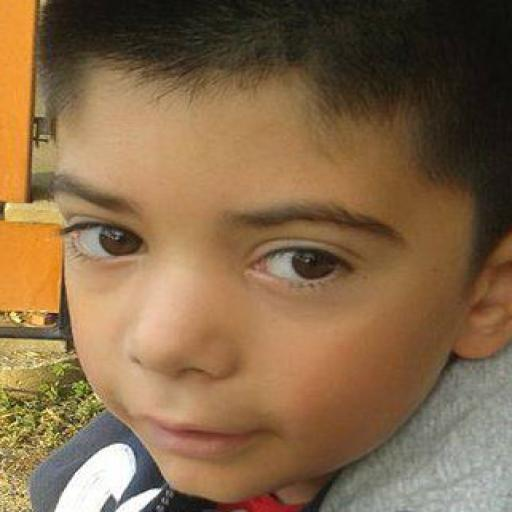Autism: (9, 3, 512, 512)
